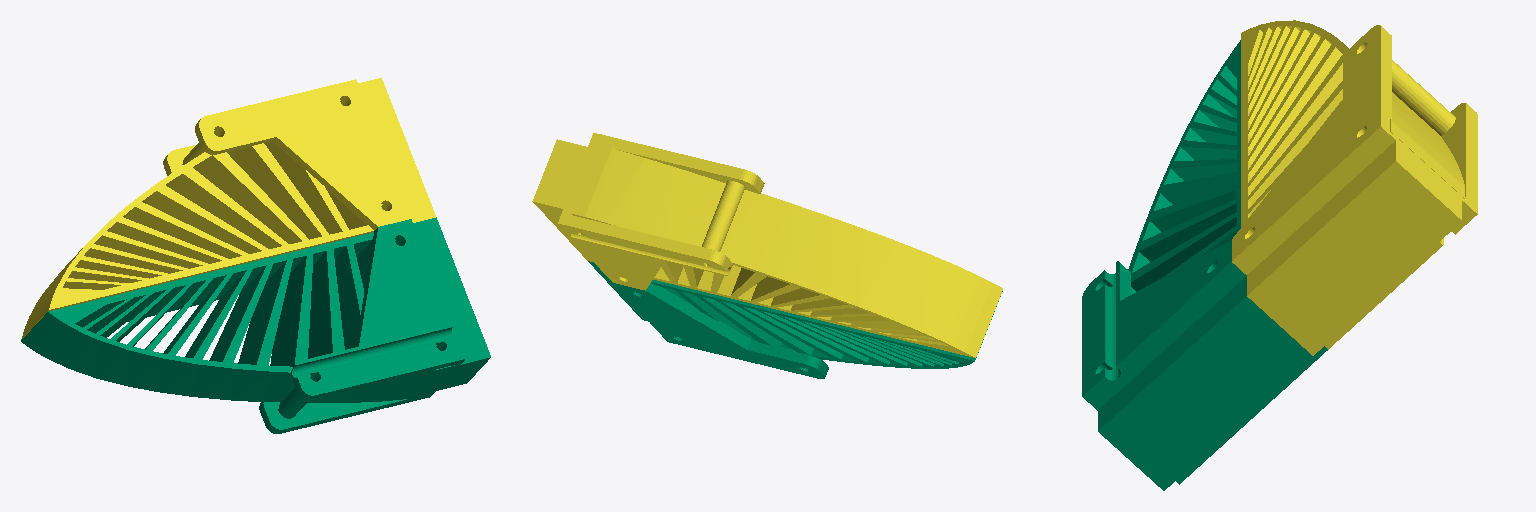
The robot description file, URDF, robot "panda":
<?xml version="1.0" encoding="utf-8"?>
<!-- =================================================================================== -->
<!-- |    This document was autogenerated by xacro from panda_arm_hand.urdf.xacro      | -->
<!-- |    EDITING THIS FILE BY HAND IS NOT RECOMMENDED                                 | -->
<!-- =================================================================================== -->
<robot name="panda" xmlns:xacro="http://www.ros.org/wiki/xacro">
  <link name="panda_link0">
    <visual>
      <geometry>
        <mesh filename="franka_description/meshes/visual/link0.dae"/>
      </geometry>
    </visual>
    <collision>
      <geometry>
        <mesh filename="franka_description/meshes/collision/link0.stl"/>
      </geometry>
    </collision>
  </link>
  <link name="panda_link1">
    <visual>
      <geometry>
        <mesh filename="franka_description/meshes/visual/link1.dae"/>
      </geometry>
    </visual>
    <collision>
      <geometry>
        <mesh filename="franka_description/meshes/collision/link1.stl"/>
      </geometry>
    </collision>
  </link>
  <joint name="panda_joint1" type="revolute">
    <safety_controller k_position="100.0" k_velocity="40.0" soft_lower_limit="-2.8973" soft_upper_limit="2.8973"/>
    <origin rpy="0 0 0" xyz="0 0 0.333"/>
    <parent link="panda_link0"/>
    <child link="panda_link1"/>
    <axis xyz="0 0 1"/>
    <limit effort="87" lower="-2.8973" upper="2.8973" velocity="2.1750"/>
  </joint>
  <link name="panda_link2">
    <visual>
      <geometry>
        <mesh filename="franka_description/meshes/visual/link2.dae"/>
      </geometry>
    </visual>
    <collision>
      <geometry>
        <mesh filename="franka_description/meshes/collision/link2.stl"/>
      </geometry>
    </collision>
  </link>
  <joint name="panda_joint2" type="revolute">
    <safety_controller k_position="100.0" k_velocity="40.0" soft_lower_limit="-1.7628" soft_upper_limit="1.7628"/>
    <origin rpy="-1.57079632679 0 0" xyz="0 0 0"/>
    <parent link="panda_link1"/>
    <child link="panda_link2"/>
    <axis xyz="0 0 1"/>
    <limit effort="87" lower="-1.7628" upper="1.7628" velocity="2.1750"/>
  </joint>
  <link name="panda_link3">
    <visual>
      <geometry>
        <mesh filename="franka_description/meshes/visual/link3.dae"/>
      </geometry>
    </visual>
    <collision>
      <geometry>
        <mesh filename="franka_description/meshes/collision/link3.stl"/>
      </geometry>
    </collision>
  </link>
  <joint name="panda_joint3" type="revolute">
    <safety_controller k_position="100.0" k_velocity="40.0" soft_lower_limit="-2.8973" soft_upper_limit="2.8973"/>
    <origin rpy="1.57079632679 0 0" xyz="0 -0.316 0"/>
    <parent link="panda_link2"/>
    <child link="panda_link3"/>
    <axis xyz="0 0 1"/>
    <limit effort="87" lower="-2.8973" upper="2.8973" velocity="2.1750"/>
  </joint>
  <link name="panda_link4">
    <visual>
      <geometry>
        <mesh filename="franka_description/meshes/visual/link4.dae"/>
      </geometry>
    </visual>
    <collision>
      <geometry>
        <mesh filename="franka_description/meshes/collision/link4.stl"/>
      </geometry>
    </collision>
  </link>
  <joint name="panda_joint4" type="revolute">
    <safety_controller k_position="100.0" k_velocity="40.0" soft_lower_limit="-3.0718" soft_upper_limit="-0.0698"/>
    <origin rpy="1.57079632679 0 0" xyz="0.0825 0 0"/>
    <parent link="panda_link3"/>
    <child link="panda_link4"/>
    <axis xyz="0 0 1"/>
    <limit effort="87" lower="-3.0718" upper="-0.0698" velocity="2.1750"/>
  </joint>
  <link name="panda_link5">
    <visual>
      <geometry>
        <mesh filename="franka_description/meshes/visual/link5.dae"/>
      </geometry>
    </visual>
    <collision>
      <geometry>
        <mesh filename="franka_description/meshes/collision/link5.stl"/>
      </geometry>
    </collision>
  </link>
  <joint name="panda_joint5" type="revolute">
    <safety_controller k_position="100.0" k_velocity="40.0" soft_lower_limit="-2.8973" soft_upper_limit="2.8973"/>
    <origin rpy="-1.57079632679 0 0" xyz="-0.0825 0.384 0"/>
    <parent link="panda_link4"/>
    <child link="panda_link5"/>
    <axis xyz="0 0 1"/>
    <limit effort="12" lower="-2.8973" upper="2.8973" velocity="2.6100"/>
  </joint>
  <link name="panda_link6">
    <visual>
      <geometry>
        <mesh filename="franka_description/meshes/visual/link6.dae"/>
      </geometry>
    </visual>
    <collision>
      <geometry>
        <mesh filename="franka_description/meshes/collision/link6.stl"/>
      </geometry>
    </collision>
  </link>
  <joint name="panda_joint6" type="revolute">
    <safety_controller k_position="100.0" k_velocity="40.0" soft_lower_limit="-0.0175" soft_upper_limit="3.7525"/>
    <origin rpy="1.57079632679 0 0" xyz="0 0 0"/>
    <parent link="panda_link5"/>
    <child link="panda_link6"/>
    <axis xyz="0 0 1"/>
    <limit effort="12" lower="-0.0175" upper="3.7525" velocity="2.6100"/>
  </joint>
  <link name="panda_link7">
    <visual>
      <geometry>
        <mesh filename="franka_description/meshes/visual/link7.dae"/>
      </geometry>
    </visual>
    <collision>
      <geometry>
        <mesh filename="franka_description/meshes/collision/link7.stl"/>
      </geometry>
    </collision>
  </link>
  <joint name="panda_joint7" type="revolute">
    <safety_controller k_position="100.0" k_velocity="40.0" soft_lower_limit="-2.8973" soft_upper_limit="2.8973"/>
    <origin rpy="1.57079632679 0 0" xyz="0.088 0 0"/>
    <parent link="panda_link6"/>
    <child link="panda_link7"/>
    <axis xyz="0 0 1"/>
    <limit effort="12" lower="-2.8973" upper="2.8973" velocity="2.6100"/>
  </joint>
  <link name="panda_link8"/>
  <joint name="panda_joint8" type="fixed">
    <origin rpy="0 0 0" xyz="0 0 0.107"/>
    <parent link="panda_link7"/>
    <child link="panda_link8"/>
    <axis xyz="0 0 0"/>
  </joint>
  <joint name="panda_hand_joint" type="fixed">
    <parent link="panda_link8"/>
    <child link="panda_hand"/>
    <origin rpy="0 0 -0.785398163397" xyz="0 0 0"/>
  </joint>
  <link name="panda_hand">
    <visual>
      <geometry>
        <mesh filename="franka_description/meshes/visual/hand.dae"/>
      </geometry>
    </visual>
    <collision>
      <geometry>
        <mesh filename="franka_description/meshes/collision/hand.stl"/>
      </geometry>
    </collision>
  </link>
  <link name="panda_leftfinger">
    <visual>
      <geometry>
        <mesh filename="franka_description/meshes/visual/new_finger.stl"/>
      </geometry>
    </visual>
    <collision>
      <geometry>
        <mesh filename="franka_description/meshes/collision/new_finger_collision.stl"/>
      </geometry>
    </collision>
  </link>
  <link name="panda_rightfinger">
    <visual>
      <origin rpy="0 0 3.14159265359" xyz="0 0 0"/>
      <geometry>
        <mesh filename="franka_description/meshes/visual/new_finger.stl"/>
      </geometry>
    </visual>
    <collision>
      <origin rpy="0 0 3.14159265359" xyz="0 0 0"/>
      <geometry>
        <mesh filename="franka_description/meshes/collision/new_finger_collision.stl"/>
      </geometry>
    </collision>
  </link>
  <joint name="panda_finger_joint1" type="prismatic">
    <parent link="panda_hand"/>
    <child link="panda_leftfinger"/>
    <origin rpy="0 0 0" xyz="0 0 0.0584"/>
    <axis xyz="0 1 0"/>
    <limit effort="20" lower="0.0" upper="0.04" velocity="0.2"/>
  </joint>
  <joint name="panda_finger_joint2" type="prismatic">
    <parent link="panda_hand"/>
    <child link="panda_rightfinger"/>
    <origin rpy="0 0 0" xyz="0 0 0.0584"/>
    <axis xyz="0 -1 0"/>
    <limit effort="20" lower="0.0" upper="0.04" velocity="0.2"/>
    <mimic joint="panda_finger_joint1"/>
  </joint>
</robot>

--- Render facts (derived) ---
Views: 3 orthographic renders of the robot side by side, from view 1: azimuth 30°, elevation 25°; view 2: azimuth 150°, elevation 25°; view 3: azimuth 270°, elevation 25°.
Robot: panda — 12 links, 11 joints (7 revolute, 2 prismatic, 2 fixed); root link panda_link0; default pose: all joints at 0 but 1 set to mid-range because 0 is outside their limits (panda_joint4 = -1.57).
Visible links, largest first — view 1: panda_leftfinger, panda_rightfinger; view 2: panda_rightfinger, panda_leftfinger; view 3: panda_rightfinger, panda_leftfinger.
Boxes of the visible links, x1=… form: panda_leftfinger: x1=21, y1=217, x2=490, y2=433; panda_rightfinger: x1=21, y1=78, x2=435, y2=339; panda_rightfinger: x1=532, y1=133, x2=1002, y2=357; panda_leftfinger: x1=588, y1=261, x2=1002, y2=378; panda_rightfinger: x1=1232, y1=20, x2=1477, y2=355; panda_leftfinger: x1=1082, y1=40, x2=1327, y2=490.
Bounding box of the posed robot: 0.1159 × 0.075 × 0.075 m (x, y, z).
2 mesh visuals loaded from 10 distinct referenced files (1 binary STL); not drawn: 9 (reference not matched to a file when rendering).